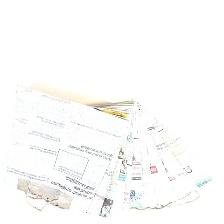news_paper: (1, 82, 224, 219)
